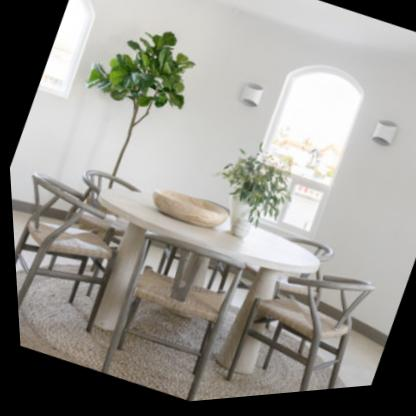Dining Table: (7, 123, 388, 416)
